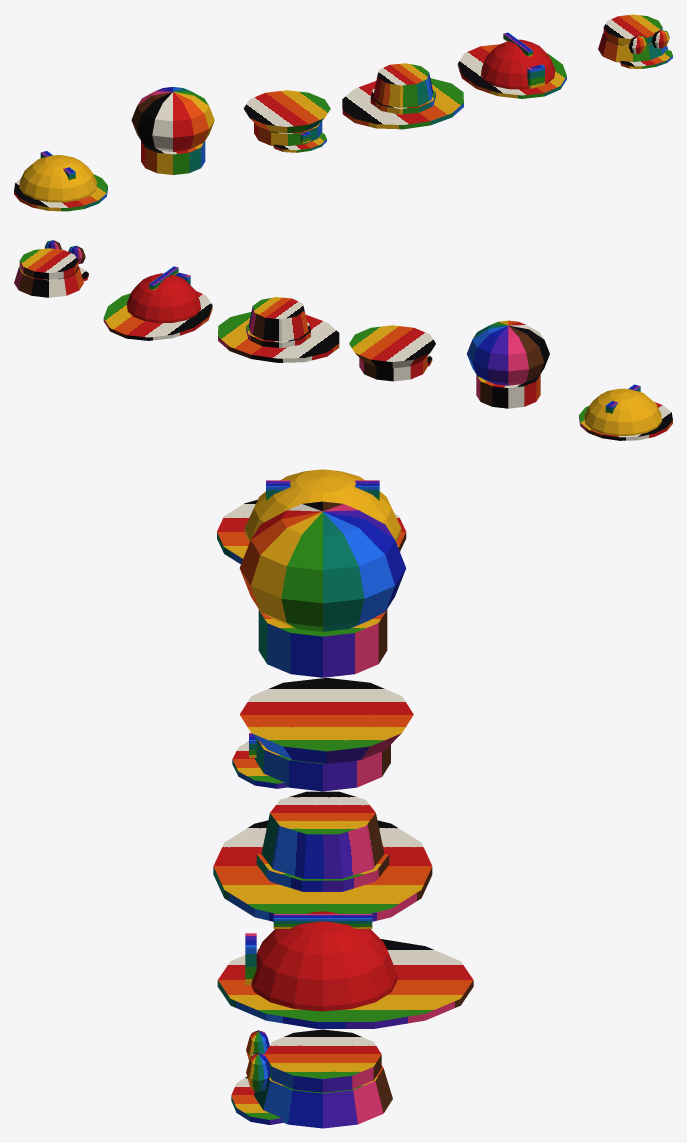
File: hats.glb
3 views of the same model, one above another, from view 1: azimuth 30°, elevation 25°; view 2: azimuth 150°, elevation 25°; view 3: azimuth 270°, elevation 25° (orthographic). The views are drawn at different scales.
Visible parts, largest first — view 1: SM_Hat_Cowboy, SM_Hat_Chef, SM_Hat_Firefighter, SM_Hat_Police, SM_Hat_HardHat, SM_Hat_Pilot; view 2: SM_Hat_Cowboy, SM_Hat_Chef, SM_Hat_Firefighter, SM_Hat_Police, SM_Hat_HardHat, SM_Hat_Pilot; view 3: SM_Hat_Chef, SM_Hat_Firefighter, SM_Hat_Cowboy, SM_Hat_Police, SM_Hat_Pilot, SM_Hat_HardHat.
Part boxes in pixels (x1,y1,x2,y2): SM_Hat_Cowboy: (342, 63, 463, 129); SM_Hat_Chef: (131, 87, 214, 174); SM_Hat_Firefighter: (457, 32, 566, 98); SM_Hat_Police: (243, 90, 330, 152); SM_Hat_HardHat: (14, 151, 107, 211); SM_Hat_Pilot: (598, 14, 672, 68); SM_Hat_Cowboy: (218, 297, 339, 362); SM_Hat_Chef: (467, 320, 549, 408); SM_Hat_Firefighter: (103, 266, 212, 340); SM_Hat_Police: (349, 325, 435, 381); SM_Hat_HardHat: (579, 384, 672, 440); SM_Hat_Pilot: (14, 240, 88, 297); SM_Hat_Chef: (239, 501, 406, 677); SM_Hat_Firefighter: (217, 911, 473, 1028); SM_Hat_Cowboy: (213, 791, 432, 921); SM_Hat_Police: (232, 677, 413, 791); SM_Hat_Pilot: (231, 1029, 392, 1128); SM_Hat_HardHat: (217, 469, 406, 564).
Size of the model in its own units: 3.94 by 0.41 by 0.6865.
Materials: 1 (1 with a texture image).
